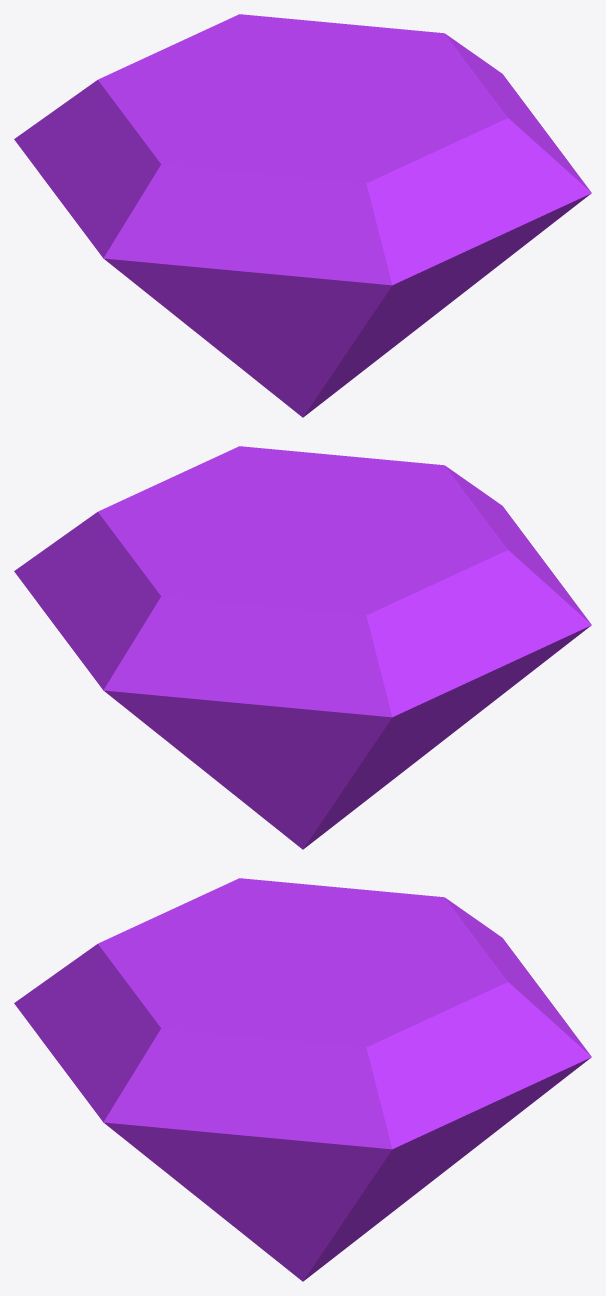
File: Diamond.fbx
3 renders of one model, top to bottom at view 1: azimuth 30°, elevation 25°; view 2: azimuth 150°, elevation 25°; view 3: azimuth 270°, elevation 25°, orthographic.
Visible parts, largest first — view 1: Dimond; view 2: Dimond; view 3: Dimond.
Boxes of the visible parts, x1=… form: Dimond: x1=14, y1=14, x2=591, y2=417; Dimond: x1=14, y1=446, x2=591, y2=849; Dimond: x1=14, y1=878, x2=591, y2=1281.
Bounding box in the file's own units: 0.3604 × 0.2248 × 0.3691.
